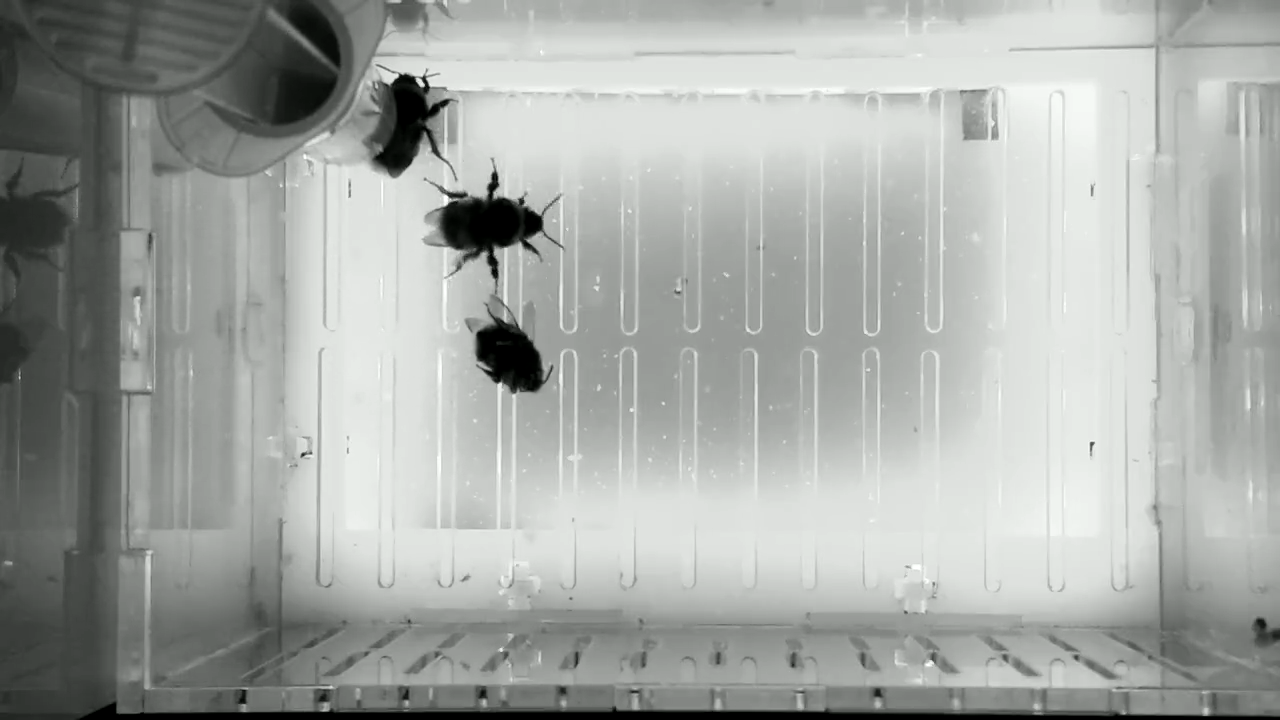bee_alive: (417, 153, 569, 294), (356, 61, 463, 182)
bee_dead: (461, 292, 558, 398)
feeder: (300, 62, 401, 170)
